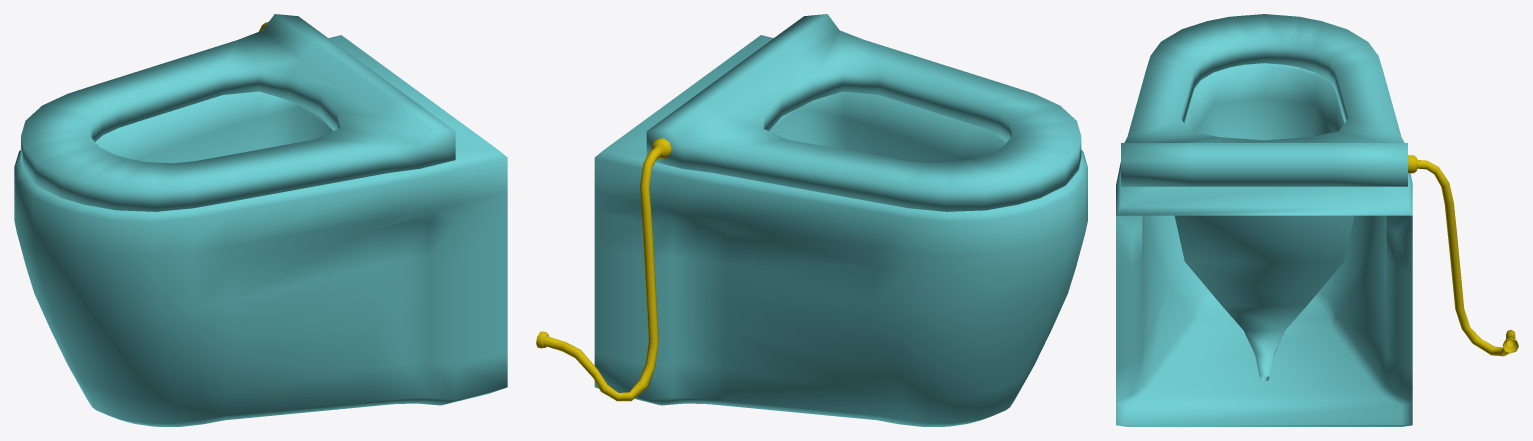
Rendered from MOD_FUR_Toilet_01.fbx.
3 renders of one model, left to right at view 1: azimuth 30°, elevation 25°; view 2: azimuth 150°, elevation 25°; view 3: azimuth 270°, elevation 25°, orthographic. The views are drawn at different scales.
Parts seen in each view (by area): view 1: HSHP_MOD_Toilet_01; view 2: HSHP_MOD_Toilet_01; view 3: HSHP_MOD_Toilet_01.
Boxes of the visible parts, bbox=[...] form: HSHP_MOD_Toilet_01: bbox=[14, 14, 507, 426]; HSHP_MOD_Toilet_01: bbox=[536, 14, 1087, 426]; HSHP_MOD_Toilet_01: bbox=[1116, 14, 1518, 426].
Bounding box in the file's own units: 0.7984 × 0.5424 × 0.7694.
